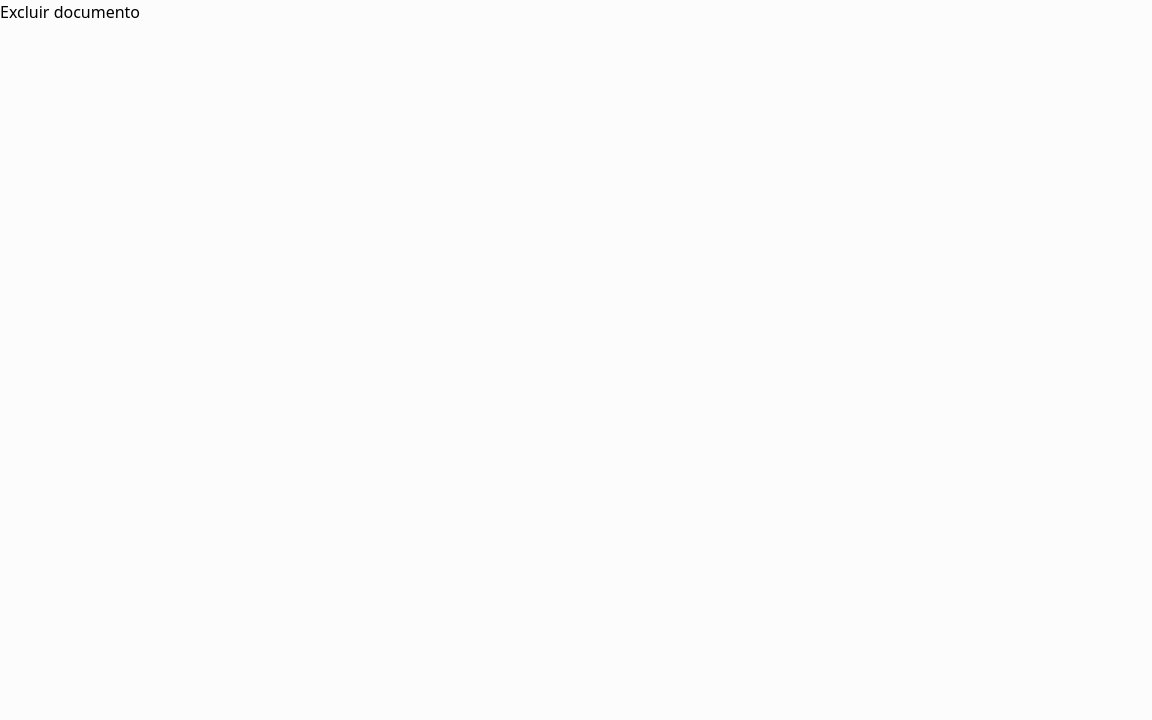
Test: AlertDialog › abre ao ativar o acionador
Click the button "Excluir documento" at {"x": 70, "y": 12}, box [0, 0, 140, 24]
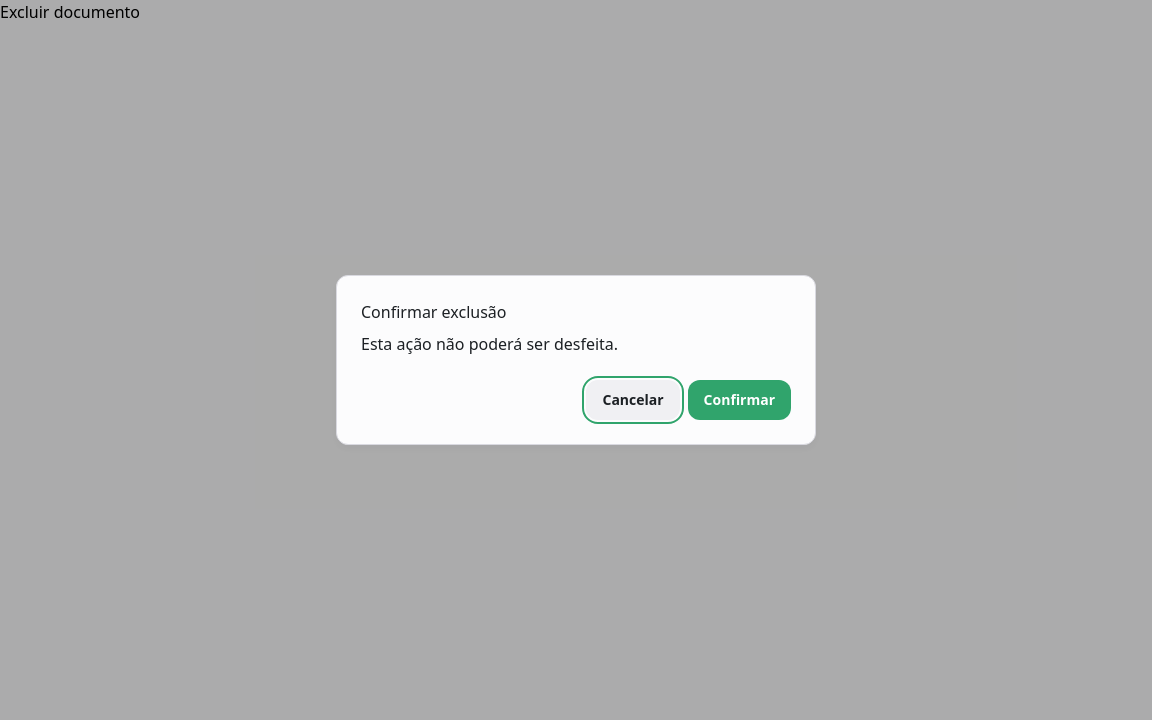
Result: the dialog "Confirmar exclusão" is shown at [336, 275, 816, 445]
